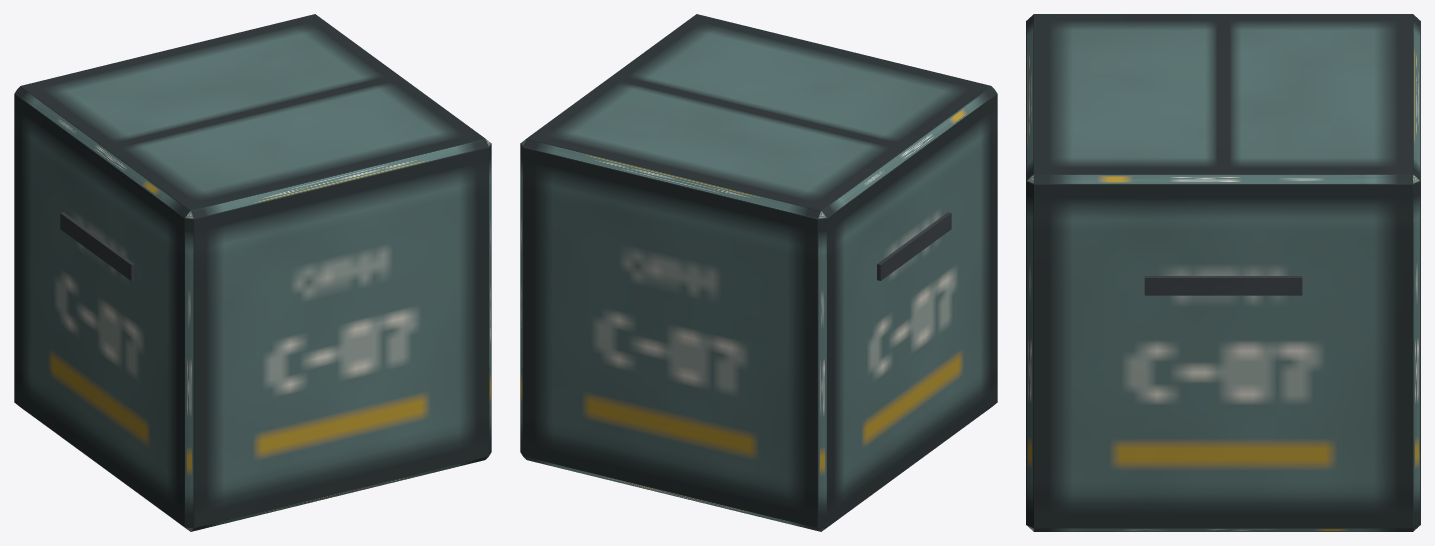
Rendered from crate_ss.fbx.
3 views of the same model, side by side, from view 1: azimuth 30°, elevation 25°; view 2: azimuth 150°, elevation 25°; view 3: azimuth 270°, elevation 25° (orthographic). The views are drawn at different scales.
Visible parts, largest first — view 1: crate_ss; view 2: crate_ss; view 3: crate_ss.
Part boxes in pixels (box(x1,y1,x2,y2)): crate_ss: box(14, 14, 491, 531); crate_ss: box(520, 14, 997, 531); crate_ss: box(1026, 14, 1420, 531).
Size of the model in its own units: 1.02 by 1 by 1.
Materials: 1 (1 with a texture image).
